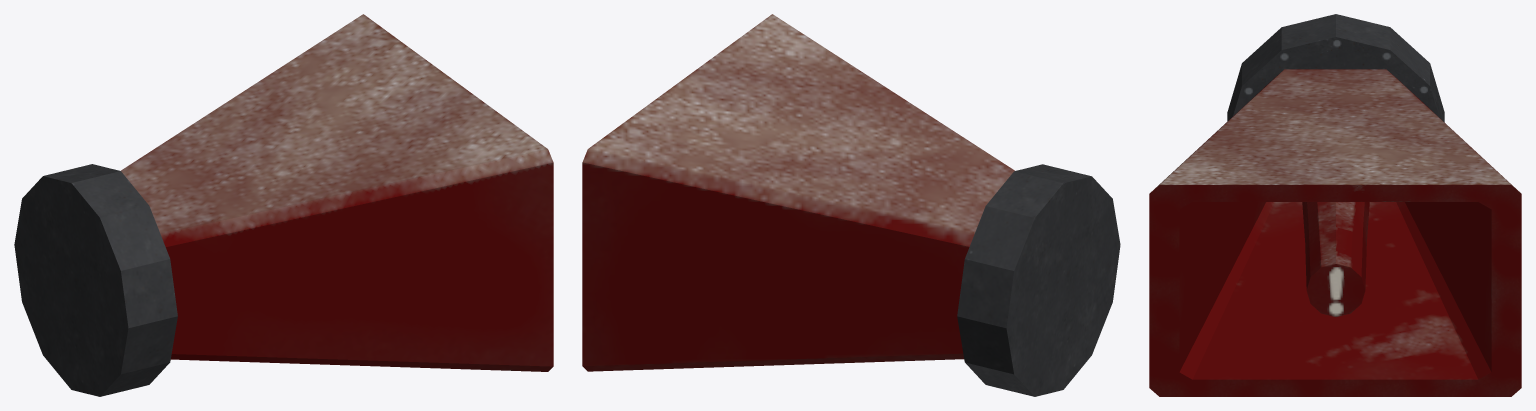
File: ass_04_speakers.fbx
3 renders of one model, left to right at view 1: azimuth 30°, elevation 25°; view 2: azimuth 150°, elevation 25°; view 3: azimuth 270°, elevation 25°, orthographic. The views are drawn at different scales.
Parts seen in each view (by area): view 1: polySurface3, polySurface1; view 2: polySurface3, polySurface1; view 3: polySurface3, polySurface1.
Boxes of the visible parts, x1,y1,x2,y2 form: polySurface3: (121,14,553,371); polySurface1: (14,164,177,396); polySurface3: (582,14,1014,371); polySurface1: (957,164,1120,396); polySurface3: (1149,69,1521,396); polySurface1: (1227,14,1444,122).
Size of the model in its own units: 38.86 by 21.54 by 34.27.
Materials: 2 (2 with a texture image).
